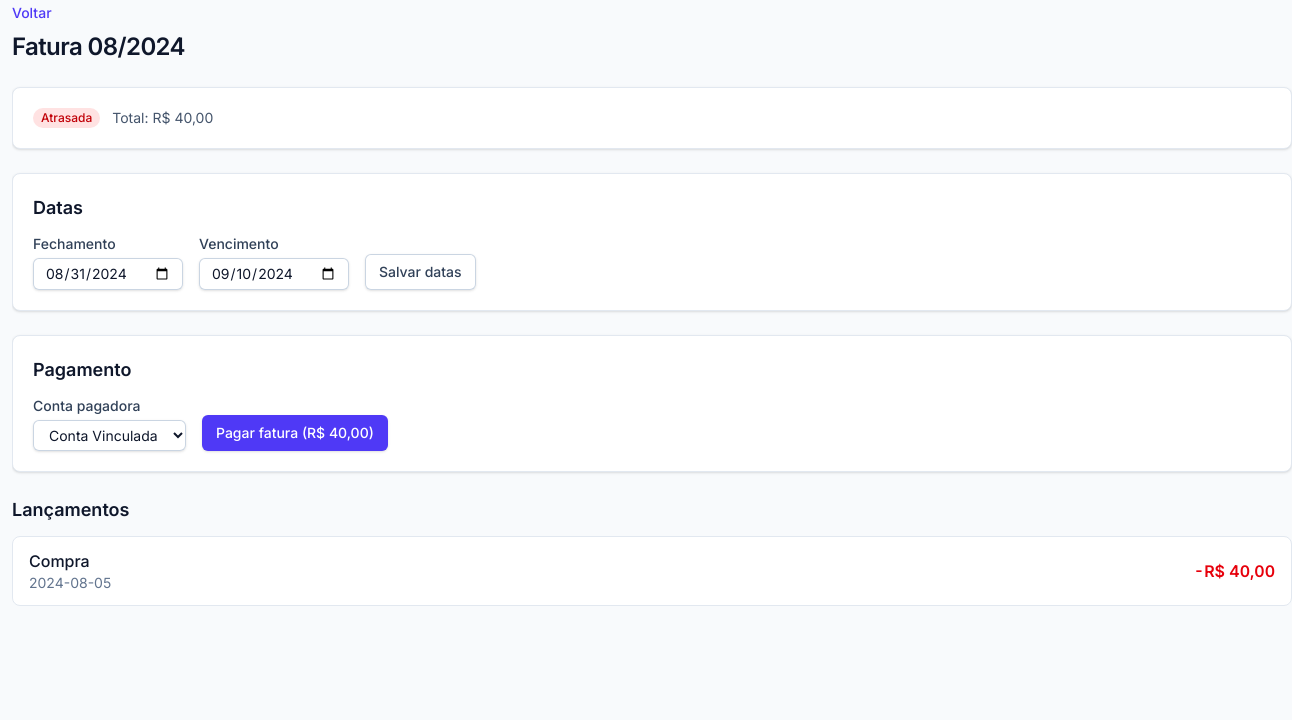
Test case: InvoiceDetailPage › pre-selects the linked account and pays the invoice
Expected: the heading "Fatura 08/2024" is shown, x1=12 y1=31 x2=185 y2=63
Click the button "Pagar fatura (R$ 40,00)". click: (295, 433)
box: x1=202 y1=415 x2=388 y2=451
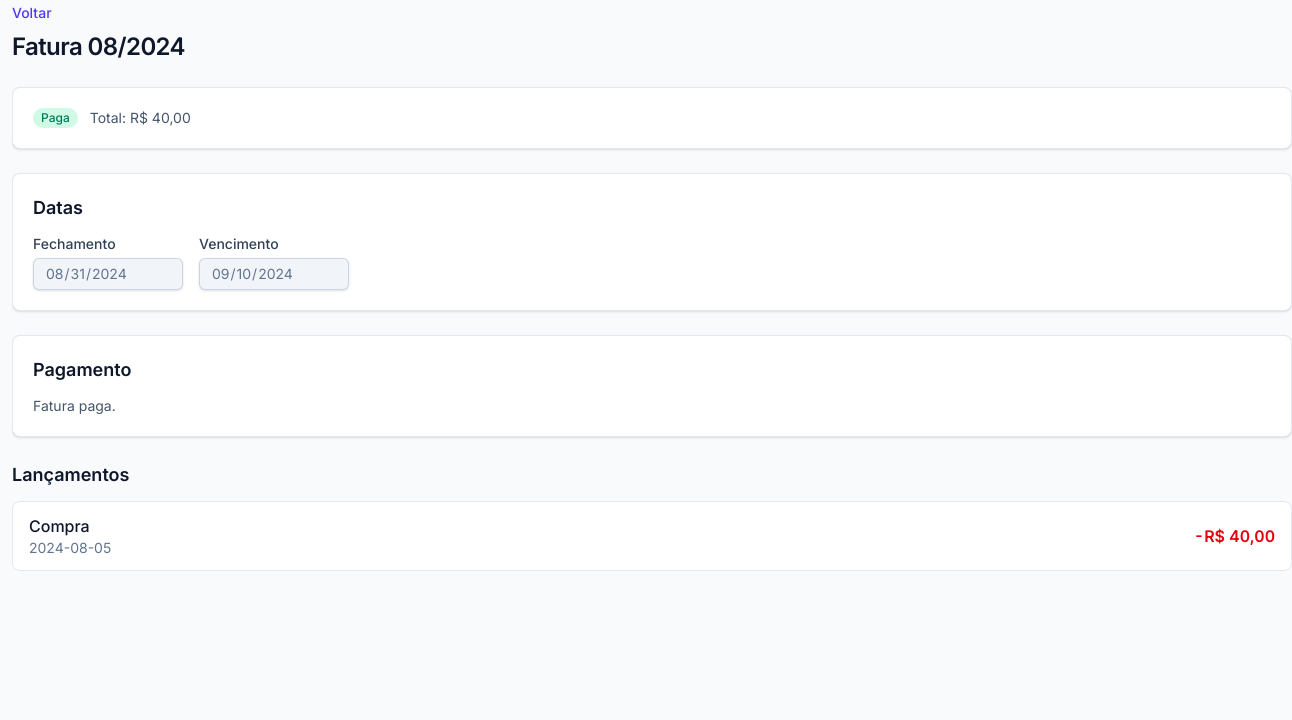
Expected: the text "Fatura paga." is shown, x1=33 y1=397 x2=116 y2=414
Expected: the text "Paga" is shown, x1=33 y1=108 x2=78 y2=128
